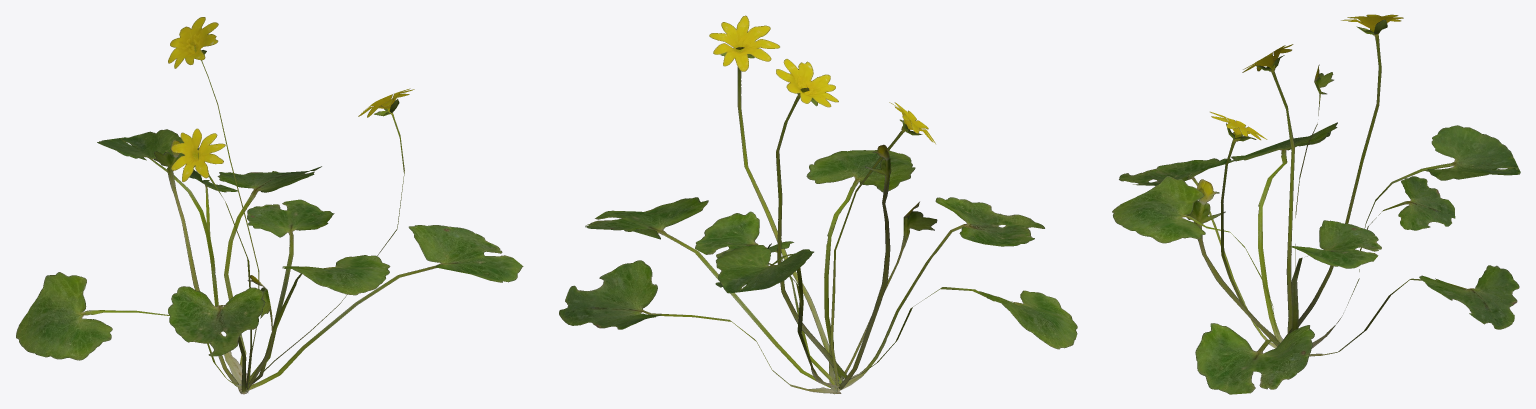
Rendered from celandine_01_c_LOD1.glb.
The picture shows the model from 3 angles, left to right: view 1: azimuth 30°, elevation 25°; view 2: azimuth 150°, elevation 25°; view 3: azimuth 270°, elevation 25°; orthographic projection. The views are drawn at different scales.
Parts seen in each view (by area): view 1: celandine_01_c_LOD1__lod0; view 2: celandine_01_c_LOD1__lod0; view 3: celandine_01_c_LOD1__lod0.
Boxes of the visible parts, x1,y1,x2,y2 form: celandine_01_c_LOD1__lod0: (16,17,523,394); celandine_01_c_LOD1__lod0: (559,15,1077,394); celandine_01_c_LOD1__lod0: (1112,14,1520,394).
Size of what is drawn, in the model's own units: 0.254 by 0.1757 by 0.1863.
1 material, 1 textured.
